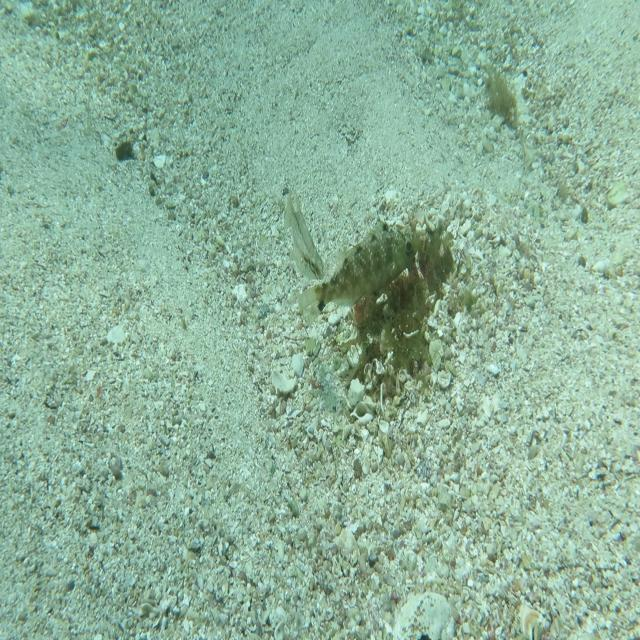FAN: (297, 216, 423, 330)
female: (282, 185, 326, 282)
nest: (344, 208, 474, 414)
vegetation: (481, 62, 524, 132), (114, 135, 136, 165)
